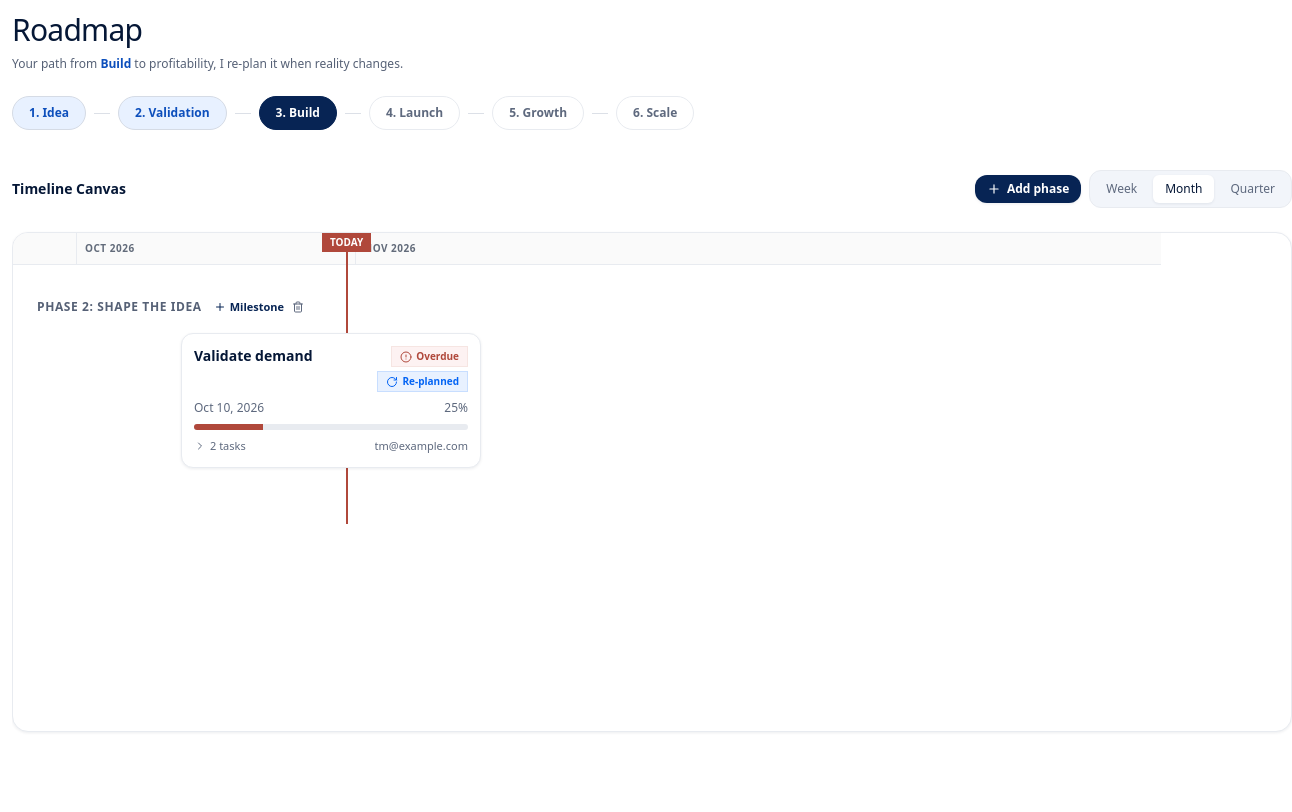
Scenario: Timeline page › shows the six real stages with the current one marked, overdue and re-planned chips, and expandable tasks
Expected: the list items read "1. Idea", "2. Validation", "3. Build", "4. Launch", "5. Growth", "6. Scale", in this order, [12, 96, 86, 130]; [118, 96, 227, 130]; [259, 96, 337, 130]; [369, 96, 460, 130]; [492, 96, 584, 130]; [616, 96, 694, 130]
Expected: the text "3. Build" is shown, [259, 96, 337, 130]
Click the button "2 tasks". click: (220, 446)
box: [194, 438, 246, 454]
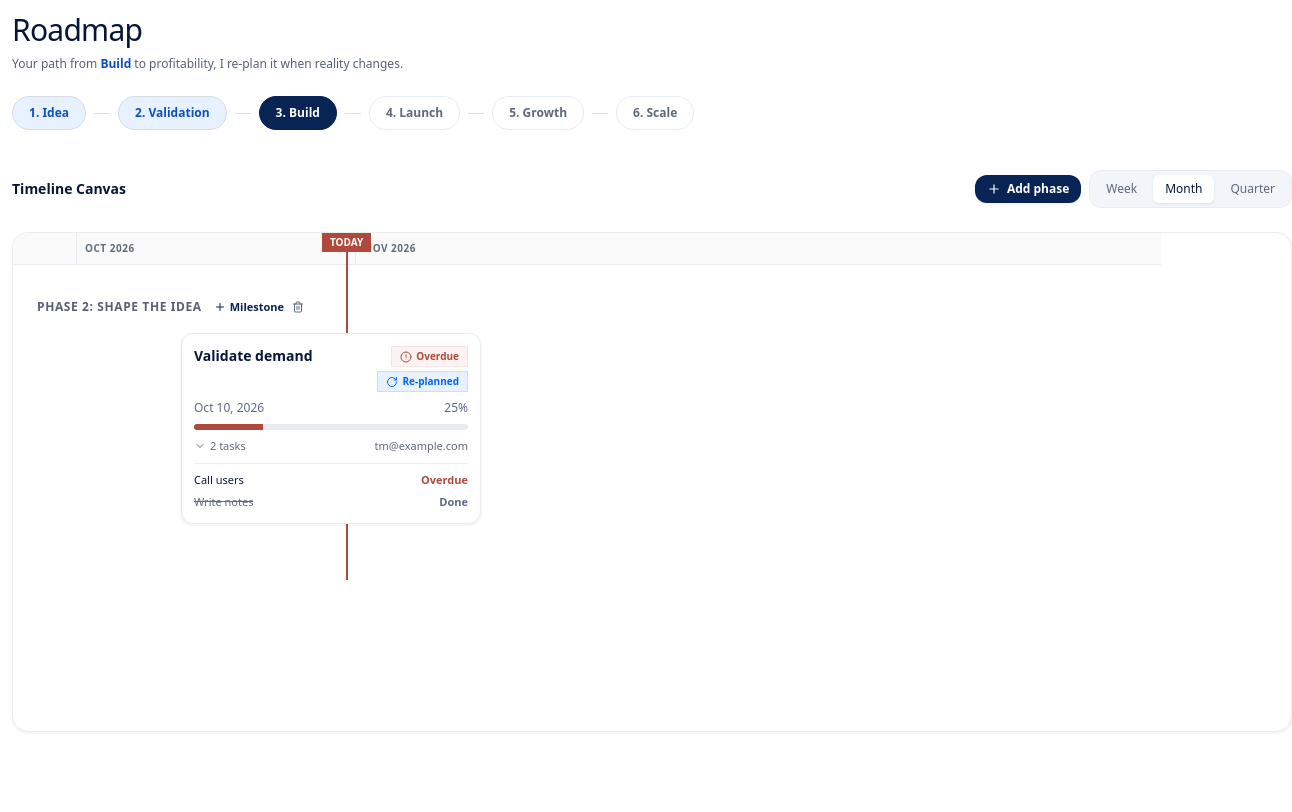
Now the text "Call users" is shown, box [194, 472, 244, 488]
Now the text "Done" is shown, box [439, 494, 468, 510]
